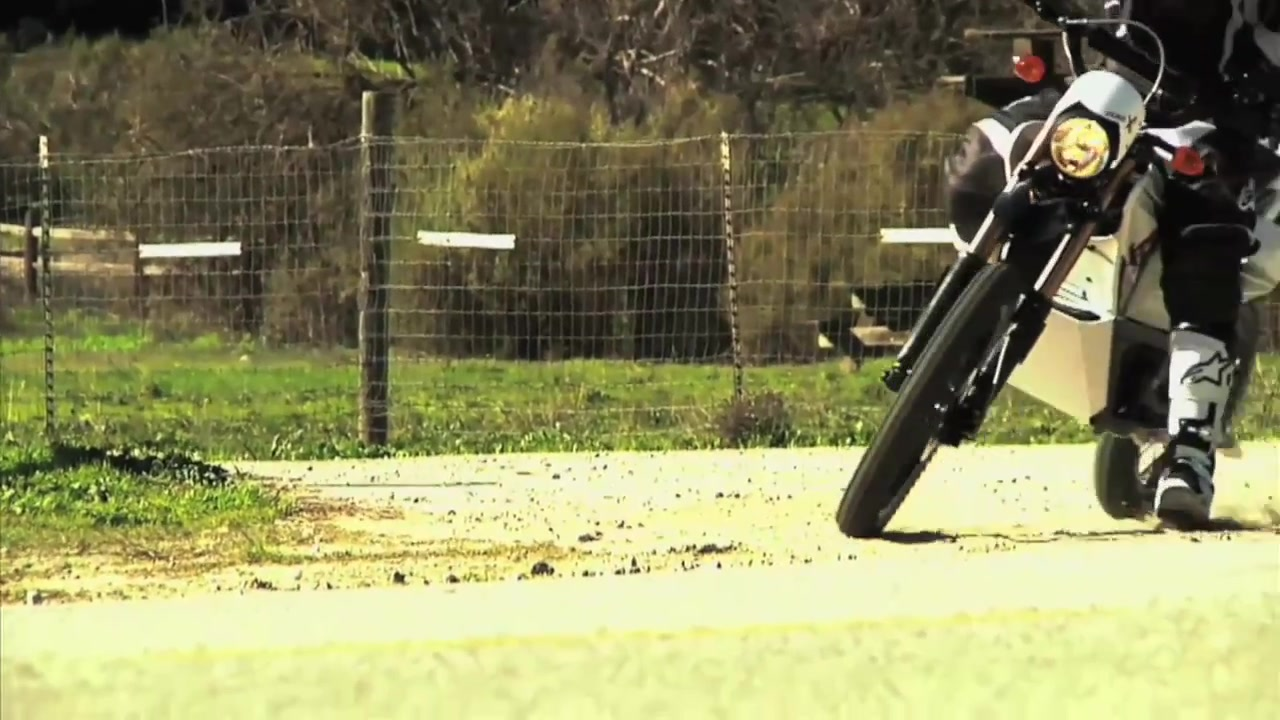motorbike: (834, 5, 1278, 535)
